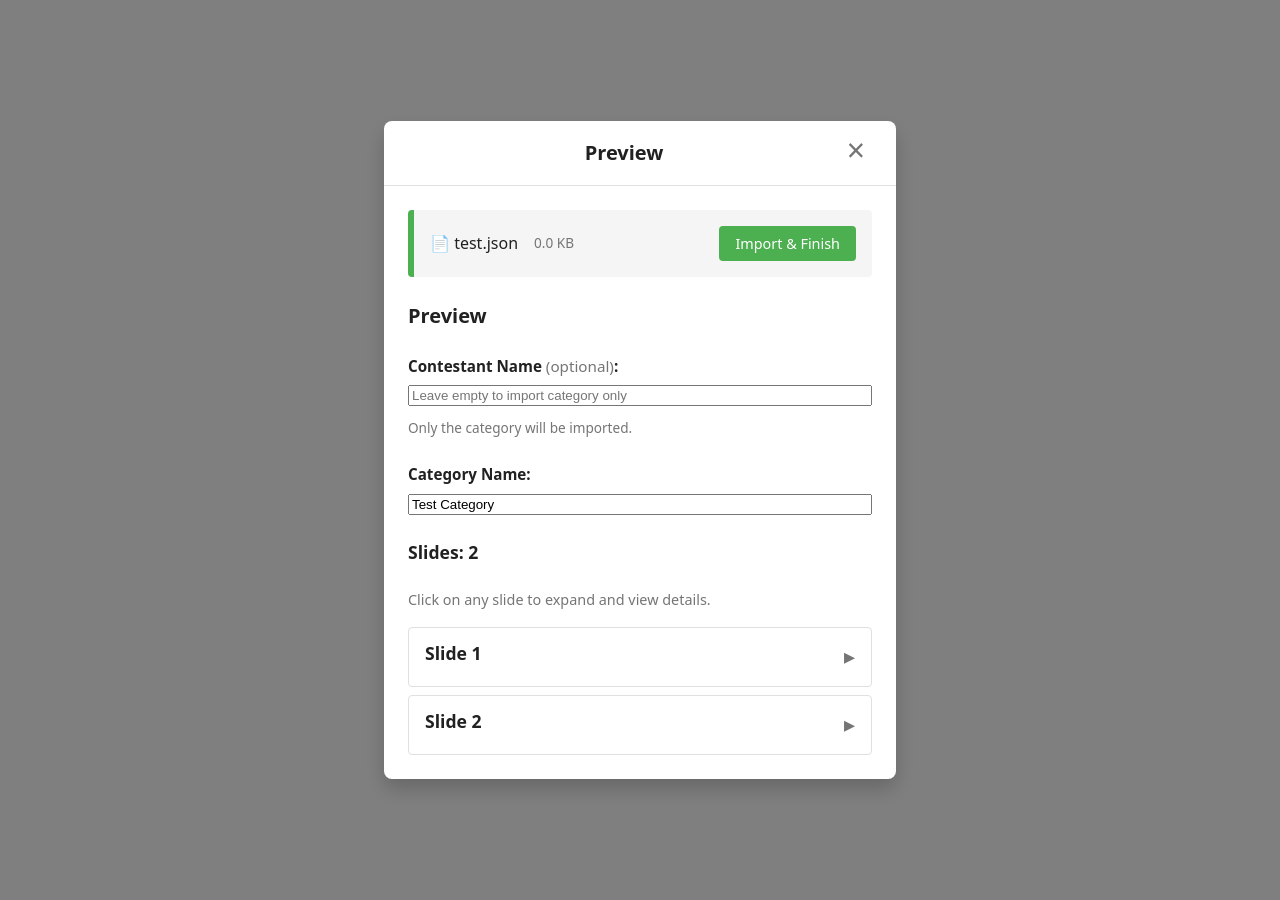
IndividualPreview › Import Button Text › should show "Importing..." when import is in progress
What coordinates should you click on to do the following:
click the button "Import & Finish"
I would click on:
 (788, 243)
Its box is left=719, top=226, right=856, bottom=261.
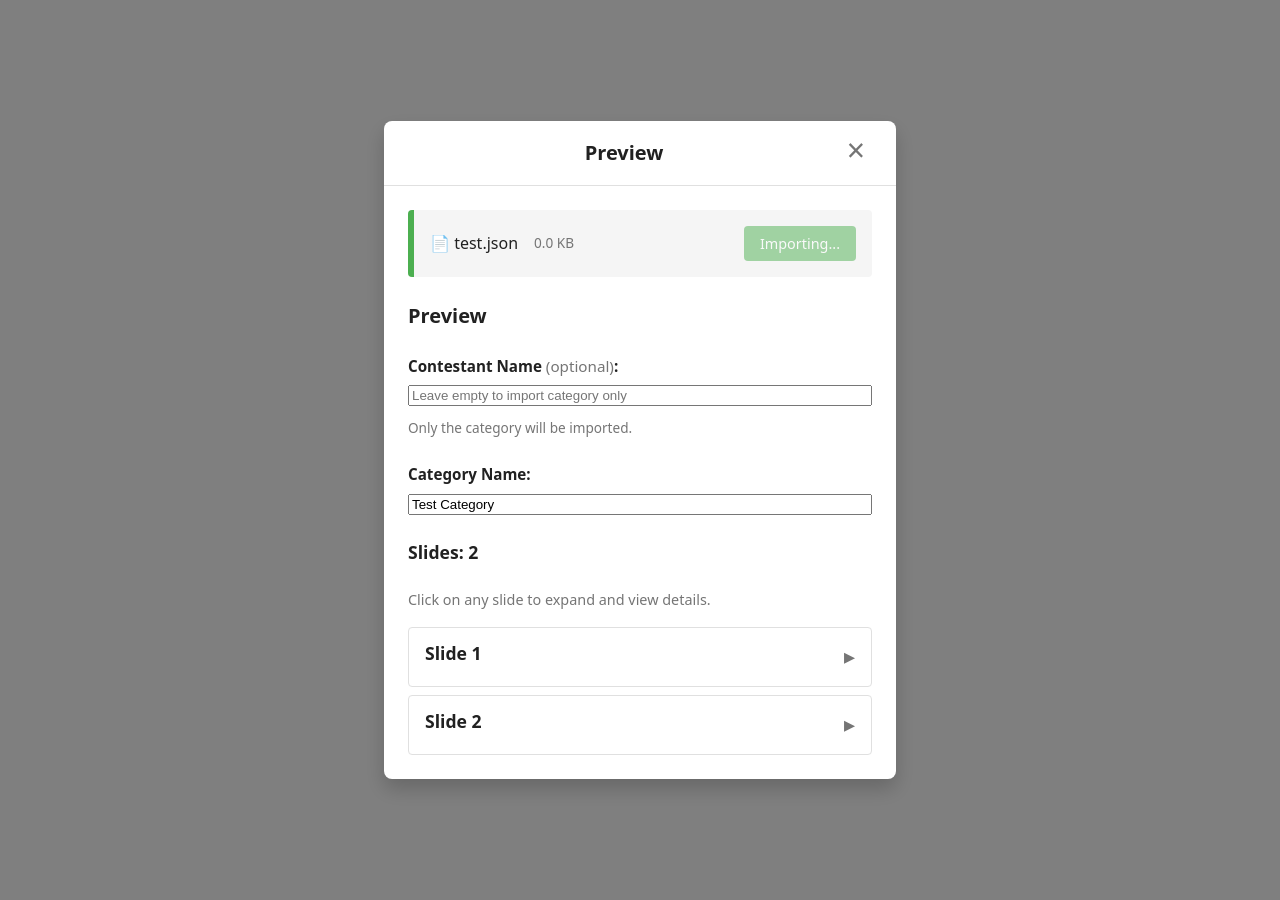
Check: the button "Importing..." is shown, box left=744, top=226, right=856, bottom=261
